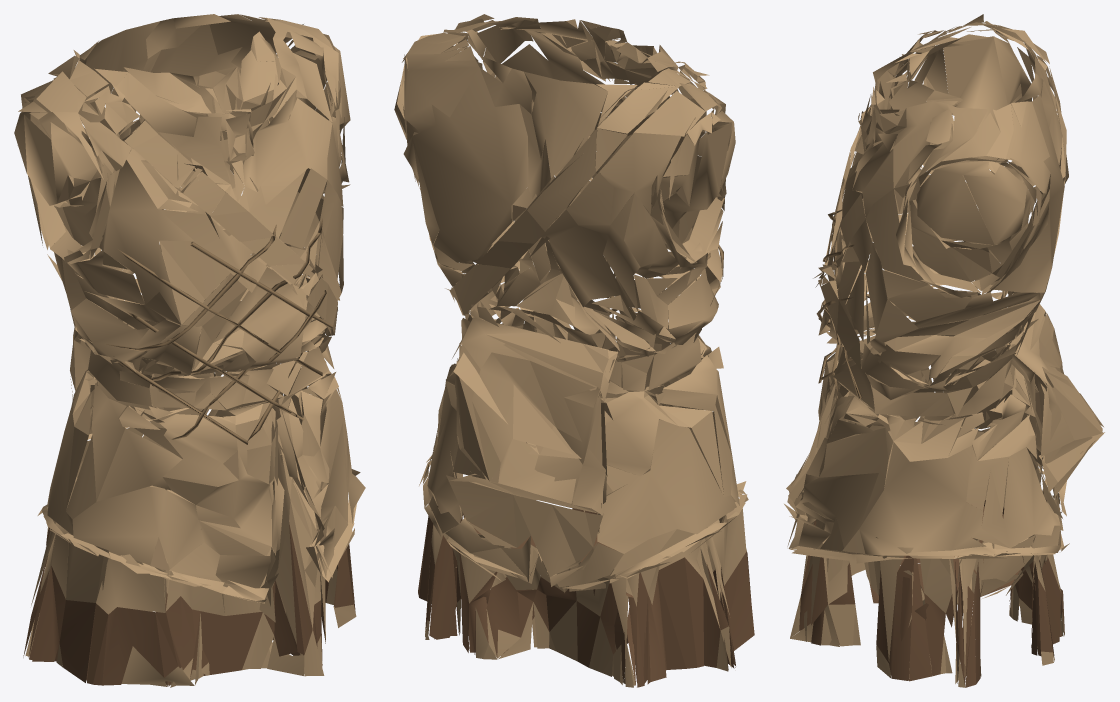
The model's file is armor_mk1_meshy.glb.
3 renders of one model, left to right at view 1: azimuth 30°, elevation 25°; view 2: azimuth 150°, elevation 25°; view 3: azimuth 270°, elevation 25°, orthographic. The views are drawn at different scales.
Visible parts, largest first — view 1: output_unwrapped, quilt stitch.006, quilt stitch.007, quilt stitch.002, quilt stitch.003, quilt stitch.001, quilt stitch.005, quilt stitch; view 2: output_unwrapped; view 3: output_unwrapped.
Boxes of the visible parts, x1,y1,x2,y2 form: output_unwrapped: (14,14,365,687); quilt stitch.006: (151,218,322,380); quilt stitch.007: (105,224,276,351); quilt stitch.002: (118,249,322,375); quilt stitch.003: (190,241,333,328); quilt stitch.001: (126,311,304,420); quilt stitch.005: (167,274,326,440); quilt stitch: (113,356,248,444); output_unwrapped: (394,14,754,687); output_unwrapped: (784,14,1104,687).
Bounding box in the file's own units: 0.5995 × 1.05 × 0.5529.
